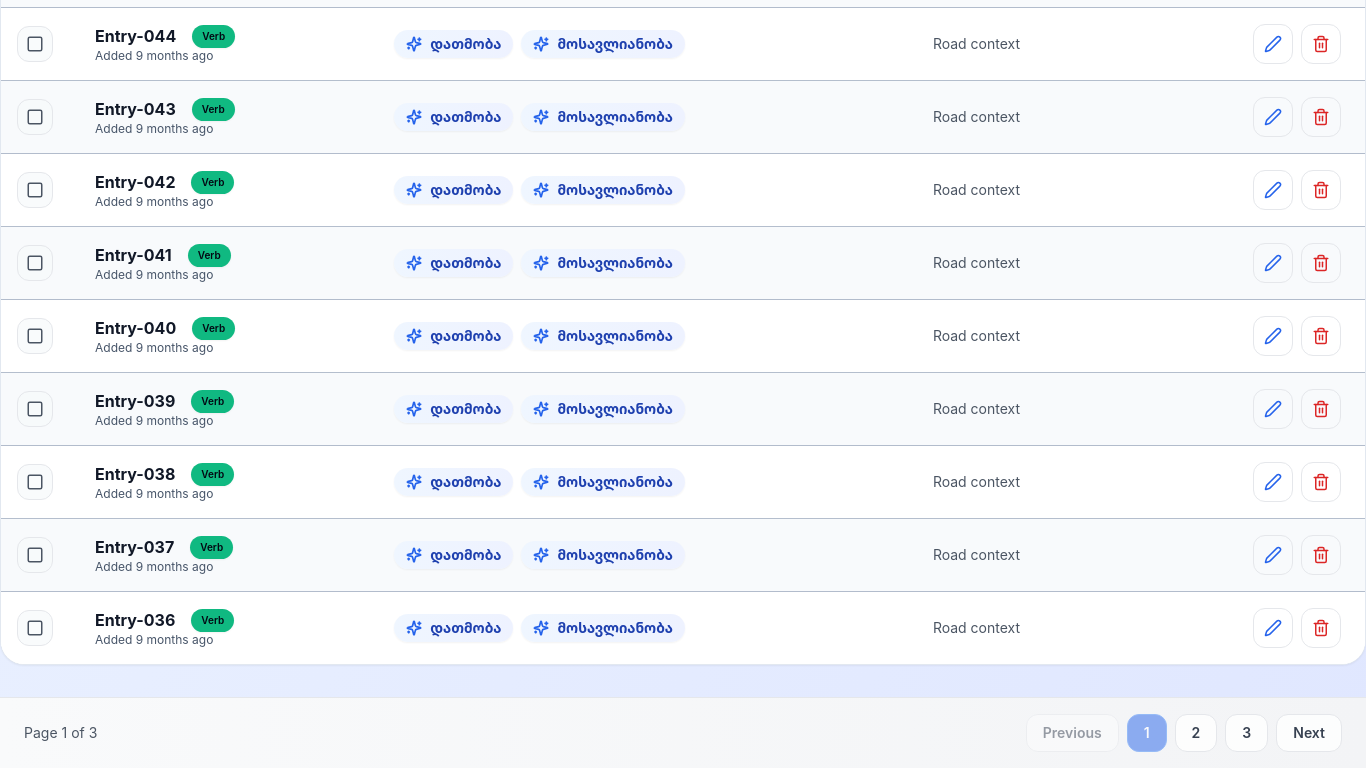
it: Words display preferences › preserves both choices through numbered/Next/Previous pages and their boundaries
(page scrolled)
Expected: the text "Page 1 of 3" is shown, [24,723,97,743]
Expected: the button "Previous" is disabled, [1026,714,1119,752]
Click the button "Next" at (1309, 733), box [1276,714,1342,752]
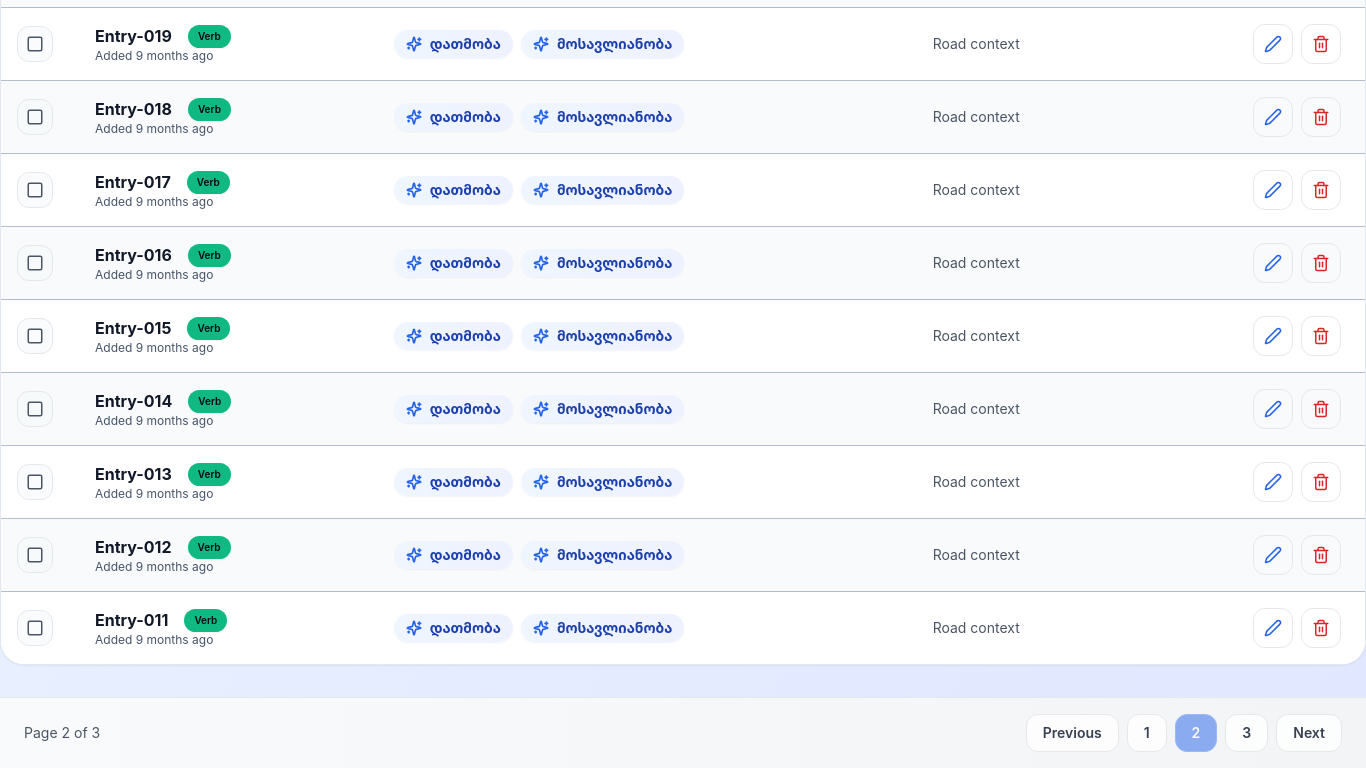
Click the button "3" at (1247, 733), box [1225,714,1268,752]
(page scrolled)
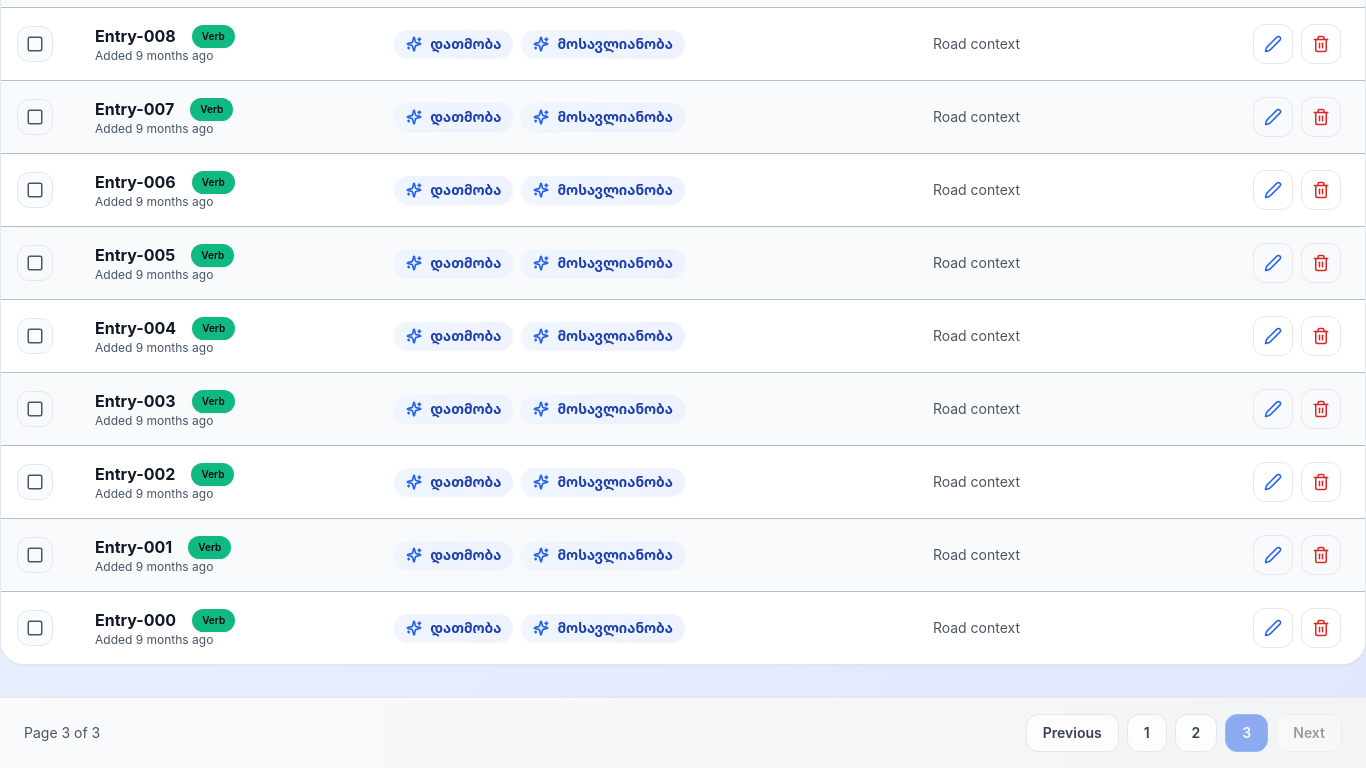
Now the button "Previous" is enabled
Now the button "Next" is disabled, box [1276,714,1342,752]
Click the button "Previous" at (1072, 733), box [1026,714,1119,752]
(page scrolled)
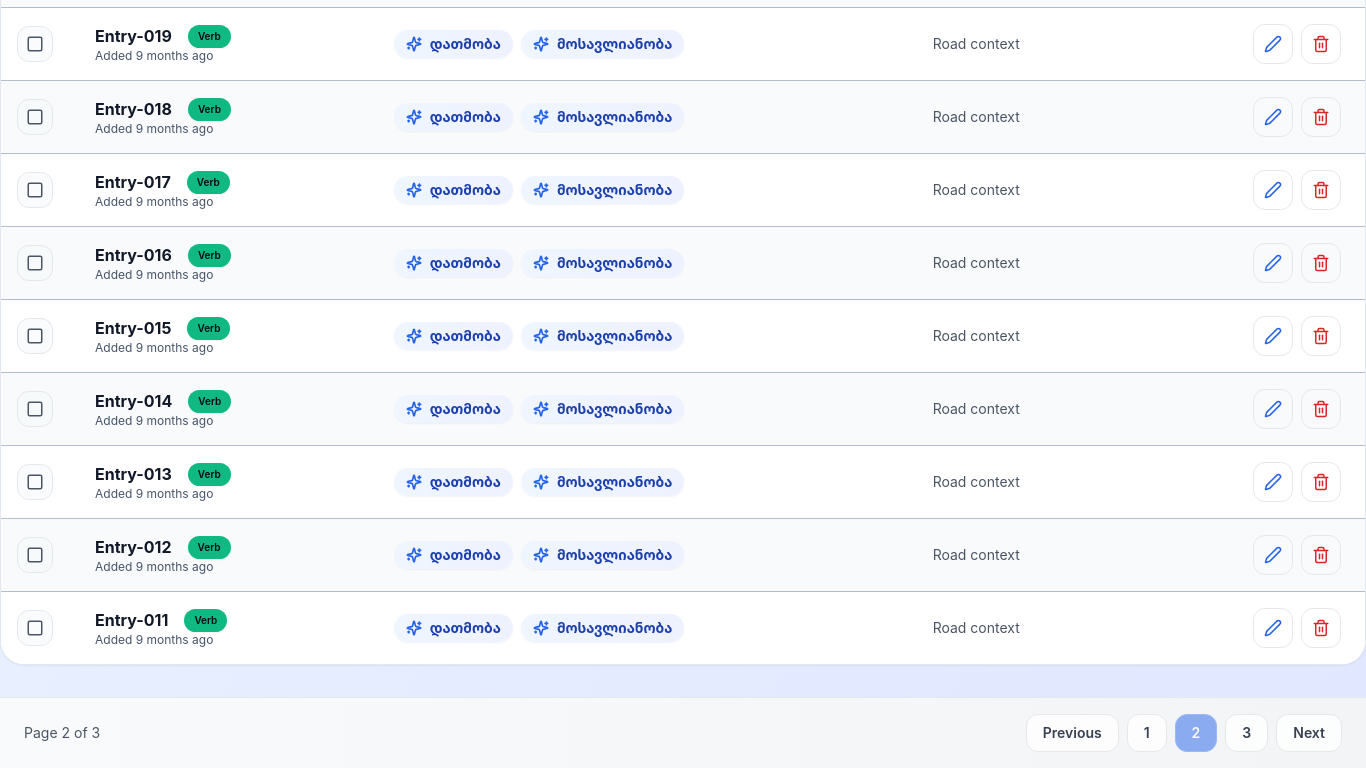
Now the text "Page 2 of 3" is shown, box [24,723,100,743]
